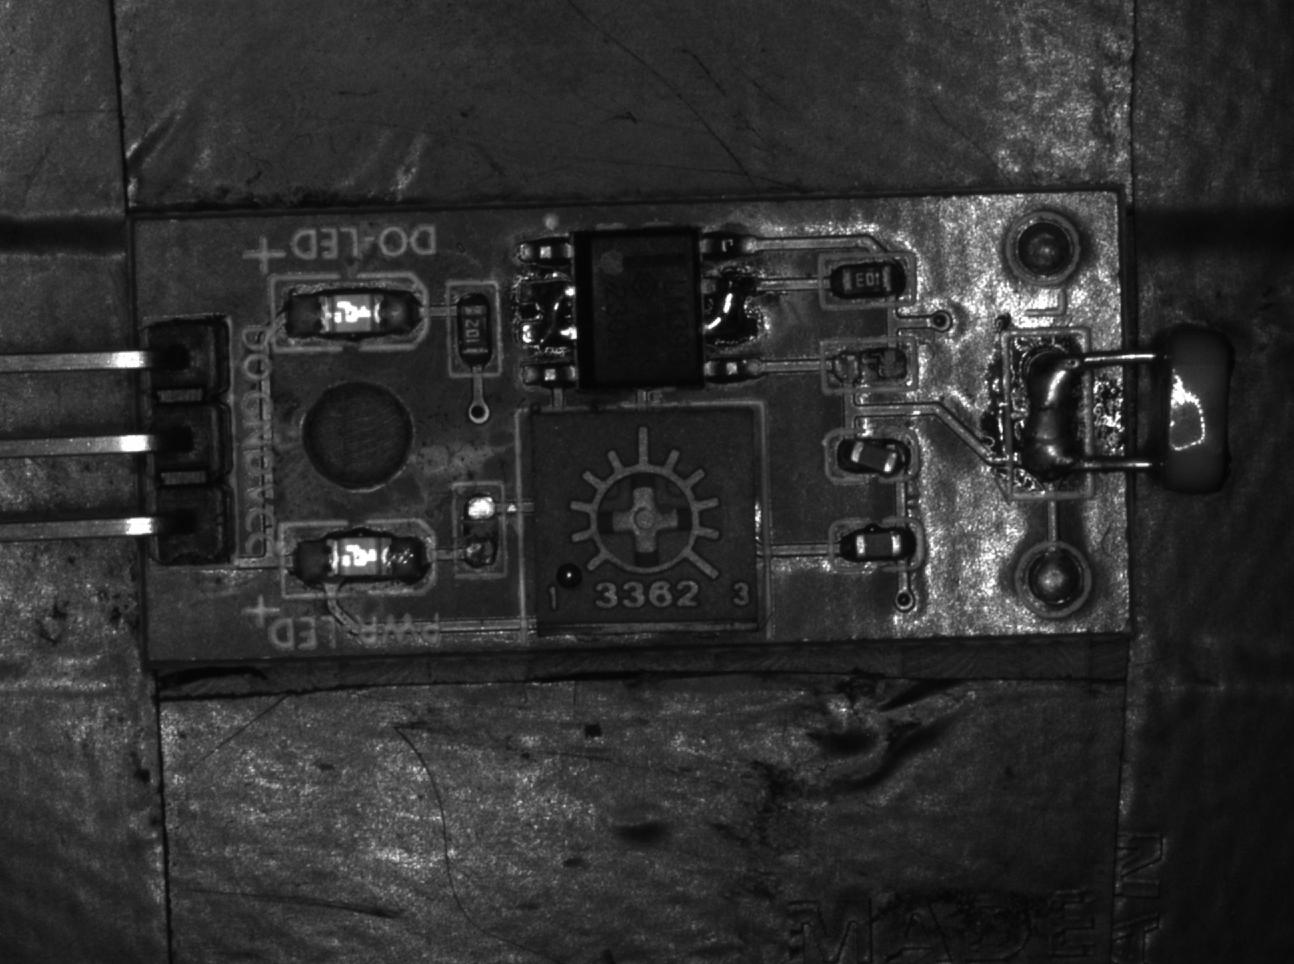bridge: (1003, 333, 1090, 501), (698, 268, 761, 349), (518, 278, 576, 351)
lifted: (825, 430, 919, 484)
miss: (453, 481, 507, 580), (821, 341, 917, 390)
ok: (818, 252, 916, 306), (447, 280, 498, 375), (829, 519, 927, 567)
